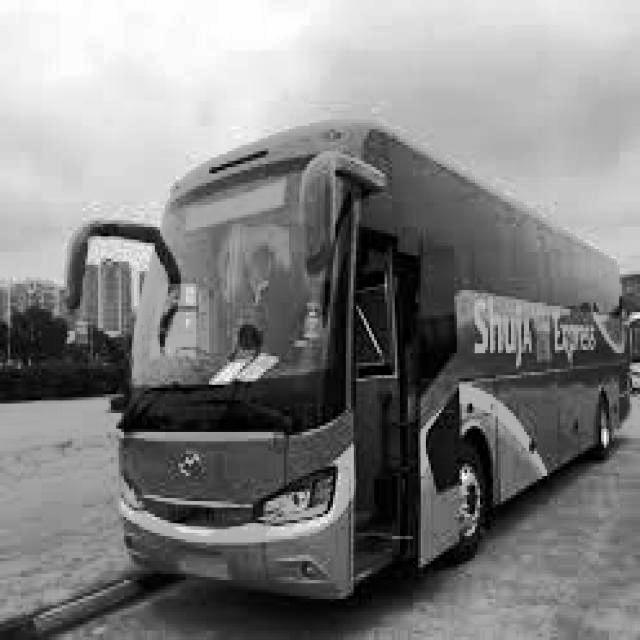Bus: (45, 95, 635, 633)
